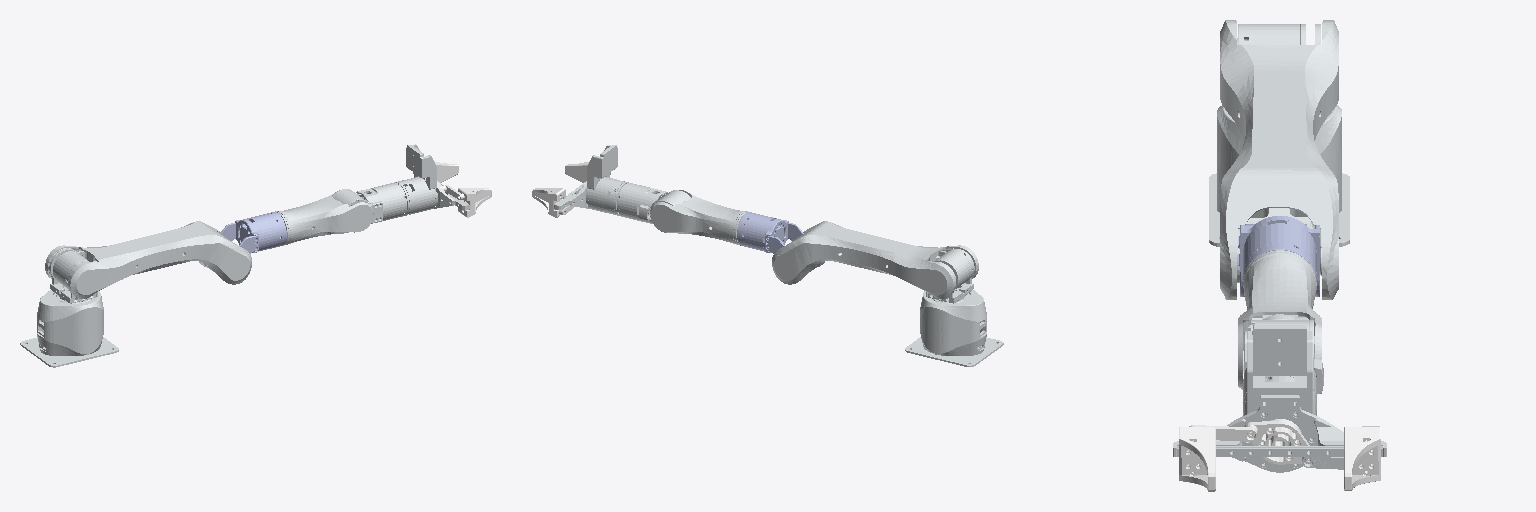
The robot description file, URDF, robot "alicia_m_v1_1_vertical":
<?xml version="1.0" encoding="utf-8"?>
<!-- This URDF was automatically created by SolidWorks to URDF Exporter! Originally created by Stephen Brawner (brawner@gmail.com) 
     Commit Version: 1.6.0-4-g7f85cfe  Build Version: 1.6.7995.38578
     For more information, please see http://wiki.ros.org/sw_urdf_exporter -->
<robot
  name="alicia_m_v1_1_vertical">
<mujoco>
        <compiler meshdir="../../meshes/Alicia_M_v1_1/vertical" balanceinertia="true" discardvisual="false" />
        <contact>
            <exclude body1="base_link" body2="Left_arm_base_link" />
            <exclude body1="Left_arm_base_link" body2="Left_arm_link1" />
            <exclude body1="Left_arm_link1" body2="Left_arm_link2" />
            <exclude body1="Left_arm_link2" body2="Left_arm_link3" />
            <exclude body1="Left_arm_link3" body2="Left_arm_link4" />
            <exclude body1="Left_arm_link4" body2="Left_arm_link5" />
            <exclude body1="Left_arm_link5" body2="Left_arm_link6" />
            <exclude body1="Left_arm_link6" body2="Left_arm_link7" />
            <exclude body1="Left_arm_link7" body2="Left_arm_gripper_Right_finger" />
            <exclude body1="Left_arm_link7" body2="Left_arm_gripper_Left_finger" />
            <exclude body1="base_link" body2="Right_arm_base_link" />
            <exclude body1="Right_arm_base_link" body2="Right_arm_link1" />
            <exclude body1="Right_arm_link1" body2="Right_arm_link2" />
            <exclude body1="Right_arm_link2" body2="Right_arm_link3" />
            <exclude body1="Right_arm_link3" body2="Right_arm_link4" />
            <exclude body1="Right_arm_link4" body2="Right_arm_link5" />
            <exclude body1="Right_arm_link5" body2="Right_arm_link6" />
            <exclude body1="Right_arm_link6" body2="Right_arm_link7" />
            <exclude body1="Right_arm_link7" body2="Right_arm_gripper_Right_finger" />
            <exclude body1="Right_arm_link7" body2="Right_arm_gripper_Right_finger" />
        </contact>
    </mujoco>
  <link
    name="base_link">
    <inertial>
      <origin
        xyz="-0.0103334311485526 -0.00398385453945086 0.0143582891490441"
        rpy="0 0 0" />
      <mass
        value="1.75527696706568" />
      <inertia
        ixx="0.00234861116473635"
        ixy="-9.65297457777556E-08"
        ixz="4.24432699737843E-05"
        iyy="0.00240394161469715"
        iyz="4.00703606825154E-08"
        izz="0.00318615555166408" />
    </inertial>
    <visual>
      <origin
        xyz="0 0 0"
        rpy="0 0 0" />
      <geometry>
        <mesh
          filename="../../meshes/Alicia_M_v1_1/vertical/base_link.STL" />
      </geometry>
      <material
        name="">
        <color
          rgba="0.898039215686275 0.917647058823529 0.929411764705882 1" />
      </material>
    </visual>
    <collision>
      <origin
        xyz="0 0 0"
        rpy="0 0 0" />
      <geometry>
        <mesh
          filename="../../meshes/Alicia_M_v1_1/vertical/base_link.STL" />
      </geometry>
    </collision>
  </link>
  <link
    name="Link1">
    <inertial>
      <origin
        xyz="-0.00526342915831953 -0.000784868444913378 0.0400390880049286"
        rpy="0 0 0" />
      <mass
        value="0.237800297288606" />
      <inertia
        ixx="0.000106554926497956"
        ixy="-2.30140022681234E-07"
        ixz="-7.39121862553419E-08"
        iyy="8.50049672355468E-05"
        iyz="1.78364303375675E-07"
        izz="9.72433156881314E-05" />
    </inertial>
    <visual>
      <origin
        xyz="0 0 0"
        rpy="0 0 0" />
      <geometry>
        <mesh
          filename="../../meshes/Alicia_M_v1_1/vertical/Link1.STL" />
      </geometry>
      <material
        name="">
        <color
          rgba="0.898039215686275 0.917647058823529 0.929411764705882 1" />
      </material>
    </visual>
    <collision>
      <origin
        xyz="0 0 0"
        rpy="0 0 0" />
      <geometry>
        <mesh
          filename="../../meshes/Alicia_M_v1_1/vertical/Link1.STL" />
      </geometry>
    </collision>
  </link>
  <joint
    name="joint1"
    type="revolute">
    <origin
      xyz="0 0 0.0832500000000003"
      rpy="0 0 1.57079632679493" />
    <parent
      link="base_link" />
    <child
      link="Link1" />
    <axis
      xyz="0 0 -1" />
    <limit
      lower="-2.7475"
      upper="2.7475"
      effort="5"
      velocity="10" />
  </joint>
  <link
    name="Link2">
    <inertial>
      <origin
        xyz="0.149110395629741 -0.00587857372665876 0.00511121734677855"
        rpy="0 0 0" />
      <mass
        value="0.579390322139033" />
      <inertia
        ixx="0.000390596409661317"
        ixy="-0.000174515125771261"
        ixz="1.07986523826878E-06"
        iyy="0.00252155311760644"
        iyz="-2.76092231985547E-07"
        izz="0.00247150525340977" />
    </inertial>
    <visual>
      <origin
        xyz="0 0 0"
        rpy="0 0 0" />
      <geometry>
        <mesh
          filename="../../meshes/Alicia_M_v1_1/vertical/Link2.STL" />
      </geometry>
      <material
        name="">
        <color
          rgba="0.898039215686275 0.917647058823529 0.929411764705882 1" />
      </material>
    </visual>
    <collision>
      <origin
        xyz="0 0 0"
        rpy="0 0 0" />
      <geometry>
        <mesh
          filename="../../meshes/Alicia_M_v1_1/vertical/Link2.STL" />
      </geometry>
    </collision>
  </link>
  <joint
    name="joint2"
    type="revolute">
    <origin
      xyz="0 0 0.0504999999999998"
      rpy="1.57079632679489 0 -1.5707963267949" />
    <parent
      link="Link1" />
    <child
      link="Link2" />
    <axis
      xyz="0 0 -1" />
    <limit
      lower="-3.14"
      upper="0"
      effort="5"
      velocity="10" />
  </joint>
  <link
    name="Link3">
    <inertial>
      <origin
        xyz="0.0473071428475581 0.0202857698385171 0.00423027511032289"
        rpy="0 0 0" />
      <mass
        value="0.524796446935498" />
      <inertia
        ixx="0.000215661311726735"
        ixy="9.72910467692353E-06"
        ixz="-7.38784286500209E-08"
        iyy="0.00017123705014943"
        iyz="-5.15999197915222E-08"
        izz="0.000192124315833724" />
    </inertial>
    <visual>
      <origin
        xyz="0 0 0"
        rpy="0 0 0" />
      <geometry>
        <mesh
          filename="../../meshes/Alicia_M_v1_1/vertical/Link3.STL" />
      </geometry>
      <material
        name="">
        <color
          rgba="0.792156862745098 0.819607843137255 0.933333333333333 1" />
      </material>
    </visual>
    <collision>
      <origin
        xyz="0 0 0"
        rpy="0 0 0" />
      <geometry>
        <mesh
          filename="../../meshes/Alicia_M_v1_1/vertical/Link3.STL" />
      </geometry>
    </collision>
  </link>
  <joint
    name="joint3"
    type="revolute">
    <origin
      xyz="0.281841109234444 -0.0404241161390731 0"
      rpy="0 0 0" />
    <parent
      link="Link2" />
    <child
      link="Link3" />
    <axis
      xyz="0 0 -1" />
    <limit
      lower="0"
      upper="3.14"
      effort="5"
      velocity="10" />
  </joint>
  <link
    name="Link4">
    <inertial>
      <origin
        xyz="-5.18786507446439E-05 0.00102837753882805 0.1067104143382"
        rpy="0 0 0" />
      <mass
        value="0.563217301453177" />
      <inertia
        ixx="0.000283025920584725"
        ixy="-1.33780551438363E-07"
        ixz="-3.84370342036384E-07"
        iyy="0.000320930756511177"
        iyz="4.31618059293541E-07"
        izz="0.00015065118708482" />
    </inertial>
    <visual>
      <origin
        xyz="0 0 0"
        rpy="0 0 0" />
      <geometry>
        <mesh
          filename="../../meshes/Alicia_M_v1_1/vertical/Link4.STL" />
      </geometry>
      <material
        name="">
        <color
          rgba="0.898039215686275 0.917647058823529 0.929411764705882 1" />
      </material>
    </visual>
    <collision>
      <origin
        xyz="0 0 0"
        rpy="0 0 0" />
      <geometry>
        <mesh
          filename="../../meshes/Alicia_M_v1_1/vertical/Link4.STL" />
      </geometry>
    </collision>
  </link>
  <joint
    name="joint4"
    type="revolute">
    <origin
      xyz="0.0961659992311068 0.0285459415460182 0.00365621749160036"
      rpy="-1.5707963267949 0 -1.5707963267949" />
    <parent
      link="Link3" />
    <child
      link="Link4" />
    <axis
      xyz="0 0 -1" />
    <limit
      lower="-1.57"
      upper="1.57"
      effort="5"
      velocity="10" />
  </joint>
  <link
    name="Link5">
    <inertial>
      <origin
        xyz="-0.000160285248676395 0.0618442518617804 0.00494698155117766"
        rpy="0 0 0" />
      <mass
        value="0.345293067539137" />
      <inertia
        ixx="0.000104570577225147"
        ixy="-1.51760923055858E-07"
        ixz="-2.73227567005842E-08"
        iyy="0.000134750628877206"
        iyz="-2.63561531556424E-07"
        izz="0.000109625408909162" />
    </inertial>
    <visual>
      <origin
        xyz="0 0 0"
        rpy="0 0 0" />
      <geometry>
        <mesh
          filename="../../meshes/Alicia_M_v1_1/vertical/Link5.STL" />
      </geometry>
      <material
        name="">
        <color
          rgba="0.898039215686275 0.917647058823529 0.929411764705882 1" />
      </material>
    </visual>
    <collision>
      <origin
        xyz="0 0 0"
        rpy="0 0 0" />
      <geometry>
        <mesh
          filename="../../meshes/Alicia_M_v1_1/vertical/Link5.STL" />
      </geometry>
    </collision>
  </link>
  <joint
    name="joint5"
    type="revolute">
    <origin
      xyz="0 0.00365621749160055 0.141249999999992"
      rpy="1.57079546598199 0 0" />
    <parent
      link="Link4" />
    <child
      link="Link5" />
    <axis
      xyz="0 0 -0.999999999999629" />
    <limit
      lower="-1.57"
      upper="1.57"
      effort="5"
      velocity="10" />
  </joint>
  <link
    name="Link6">
    <inertial>
      <origin
        xyz="-0.00949014291692725 0.000184204299153282 0.0320505833599616"
        rpy="0 0 0" />
      <mass
        value="0.468227264667251" />
      <inertia
        ixx="0.00020145546074941"
        ixy="-3.87891368628852E-07"
        ixz="1.95738657665517E-06"
        iyy="0.000124596935151466"
        iyz="1.26749833928024E-07"
        izz="0.000253878310703285" />
    </inertial>
    <visual>
      <origin
        xyz="0 0 0"
        rpy="0 0 0" />
      <geometry>
        <mesh
          filename="../../meshes/Alicia_M_v1_1/vertical/Link6.STL" />
      </geometry>
      <material
        name="">
        <color
          rgba="0.898039215686275 0.917647058823529 0.929411764705882 1" />
      </material>
    </visual>
    <collision>
      <origin
        xyz="0 0 0"
        rpy="0 0 0" />
      <geometry>
        <mesh
          filename="../../meshes/Alicia_M_v1_1/vertical/Link6.STL" />
      </geometry>
    </collision>
  </link>
  <joint
    name="joint6"
    type="revolute">
    <origin
      xyz="0 0.0969999968526495 0.00365630099043798"
      rpy="-1.57079546598199 0 0" />
    <parent
      link="Link5" />
    <child
      link="Link6" />
    <axis
      xyz="0.000117752346292873 0 -0.999999993065524" />
    <limit
      lower="-2.791"
      upper="2.791"
      effort="5"
      velocity="10" />
  </joint>
  <link
    name="grasp_base">
    <inertial>
      <origin
        xyz="-0.00437159263290569 -0.00365634956924518 -0.0723165166817351"
        rpy="0 0 0" />
      <mass
        value="0.0142808342625991" />
      <inertia
        ixx="2.85360621540045E-06"
        ixy="4.97222772859985E-07"
        ixz="-9.08102321498689E-13"
        iyy="1.02096802124047E-06"
        iyz="-4.75823211654677E-12"
        izz="3.62557456427297E-06" />
    </inertial>
    <visual>
      <origin
        xyz="0 0 0"
        rpy="0 0 0" />
      <geometry>
        <mesh
          filename="../../meshes/Alicia_M_v1_1/vertical/grasp_base.STL" />
      </geometry>
      <material
        name="">
        <color
          rgba="1 1 1 1" />
      </material>
    </visual>
    <collision>
      <origin
        xyz="0 0 0"
        rpy="0 0 0" />
      <geometry>
        <mesh
          filename="../../meshes/Alicia_M_v1_1/vertical/grasp_base.STL" />
      </geometry>
    </collision>
  </link>
  <joint
    name="grasp_base_joint"
    type="fixed">
    <origin
      xyz="0.00437159263208188 0.00365621749158591 0.135500448714312"
      rpy="0 0 0" />
    <parent
      link="Link6" />
    <child
      link="grasp_base" />
    <axis
      xyz="0 0 0" />
  </joint>
  <link
    name="Link7">
    <inertial>
      <origin
        xyz="-5.91532872329381E-06 -0.0424946854828698 -0.0107087831656221"
        rpy="0 0 0" />
      <mass
        value="0.024371454490502" />
      <inertia
        ixx="6.51543692860524E-06"
        ixy="2.42617051469707E-10"
        ixz="9.45242735108209E-10"
        iyy="5.10675705091675E-06"
        iyz="1.28945217447738E-06"
        izz="8.13607035996069E-06" />
    </inertial>
    <visual>
      <origin
        xyz="0 0 0"
        rpy="0 0 0" />
      <geometry>
        <mesh
          filename="../../meshes/Alicia_M_v1_1/vertical/Link7.STL" />
      </geometry>
      <material
        name="">
        <color
          rgba="1 1 1 1" />
      </material>
    </visual>
    <collision>
      <origin
        xyz="0 0 0"
        rpy="0 0 0" />
      <geometry>
        <mesh
          filename="../../meshes/Alicia_M_v1_1/vertical/Link7.STL" />
      </geometry>
    </collision>
  </link>
  <joint
    name="joint7"
    type="prismatic">
    <origin
      xyz="-0.0043333 -0.053656 0"
      rpy="1.5708 0 -3.1408" />
    <parent
      link="grasp_base" />
    <child
      link="Link7" />
    <axis
      xyz="0 0 -1" />
    <limit
      lower="-0.05"
      upper="0"
      effort="5"
      velocity="10" />
  </joint>
  <link
    name="Link8">
    <inertial>
      <origin
        xyz="0.0424946854828696 -5.91533008924283E-06 -0.0107087831656057"
        rpy="0 0 0" />
      <mass
        value="0.0243714544905019" />
      <inertia
        ixx="5.10675705091675E-06"
        ixy="-2.42617096250896E-10"
        ixz="-1.28945217447733E-06"
        iyy="6.5154369286052E-06"
        iyz="9.45242776117289E-10"
        izz="8.13607035996066E-06" />
    </inertial>
    <visual>
      <origin
        xyz="0 0 0"
        rpy="0 0 0" />
      <geometry>
        <mesh
          filename="../../meshes/Alicia_M_v1_1/vertical/Link8.STL" />
      </geometry>
      <material
        name="">
        <color
          rgba="1 1 1 1" />
      </material>
    </visual>
    <collision>
      <origin
        xyz="0 0 0"
        rpy="0 0 0" />
      <geometry>
        <mesh
          filename="../../meshes/Alicia_M_v1_1/vertical/Link8.STL" />
      </geometry>
    </collision>
  </link>
  <joint
    name="joint8"
    type="prismatic">
    <origin
      xyz="-0.0044099 0.046344 0"
      rpy="-0.0007659 1.5708 -1.5708" />
    <parent
      link="grasp_base" />
    <child
      link="Link8" />
    <axis
      xyz="0 0 1" />
    <limit
      lower="0"
      upper="0.05"
      effort="5"
      velocity="10" />
  </joint>
</robot>

--- What the picture shows (computed from the rendered views, not written in the file) ---
3 views of the same robot in one strip: view 1: azimuth 30°, elevation 25°; view 2: azimuth 150°, elevation 25°; view 3: azimuth 270°, elevation 25° (orthographic).
Model alicia_m_v1_1_vertical with 10 links and 9 joints (6 revolute, 2 prismatic, 1 fixed), rooted at base_link, posed all joints at 0.
Links seen in each view (by area): view 1: Link2, base_link, Link4, Link6, Link3, Link5, Link1, Link7; view 2: Link2, base_link, Link4, Link6, Link3, Link5, Link1, Link8; view 3: Link2, Link6, Link4, base_link, Link3, Link8, Link7, grasp_base, Link1, Link5.
Link boxes in pixels (x1,y1,x2,y2): Link2: (45,221,251,298); base_link: (20,290,118,367); Link4: (275,189,373,245); Link6: (396,144,469,215); Link3: (203,212,286,271); Link5: (356,182,406,223); Link1: (49,249,97,303); Link7: (458,188,491,217); Link2: (772,221,978,298); base_link: (905,290,1003,366); Link4: (650,190,747,245); Link6: (554,145,628,215); Link3: (737,212,820,271); Link5: (617,183,667,223); Link1: (926,249,974,303); Link8: (532,188,565,217); Link2: (1220,20,1338,299); Link6: (1173,325,1386,472); Link4: (1238,250,1321,389); base_link: (1209,105,1349,246); Link3: (1237,216,1319,296); Link8: (1344,426,1380,490); Link7: (1179,427,1215,491); grasp_base: (1189,419,1328,468); Link1: (1238,24,1320,47); Link5: (1243,331,1323,402).
Bounding box of the posed robot: 0.8254 × 0.166 × 0.2042 m (x, y, z).
10 mesh visuals loaded from 10 distinct referenced files (10 binary STL).
